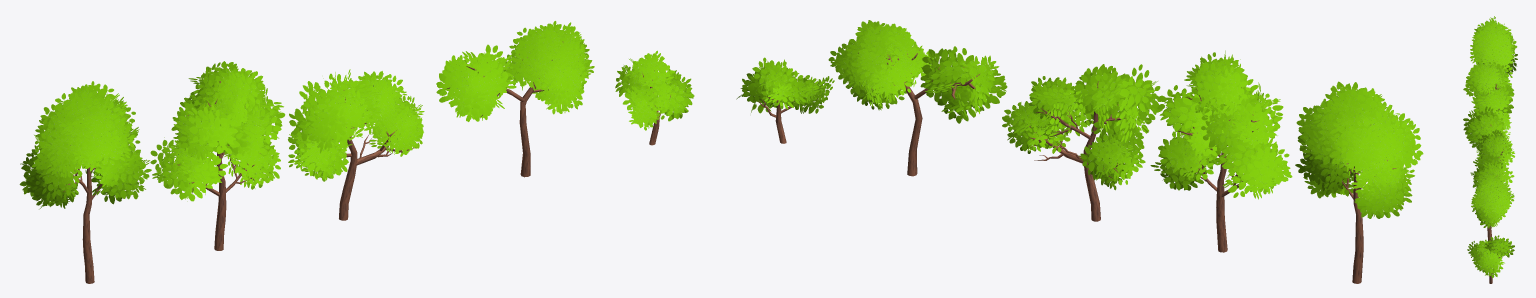
Rendered from trees_free_model_lo.glb.
The picture shows the model from 3 angles, left to right: view 1: azimuth 30°, elevation 25°; view 2: azimuth 150°, elevation 25°; view 3: azimuth 270°, elevation 25°; orthographic projection. The views are drawn at different scales.
Visible parts, largest first — view 1: NormalTree_2, NormalTree_1, NormalTree_3, NormalTree_4, NormalTree_5; view 2: NormalTree_2, NormalTree_1, NormalTree_3, NormalTree_4, NormalTree_5; view 3: NormalTree_4, NormalTree_2, NormalTree_3, NormalTree_1, NormalTree_5.
Part boxes in pixels (box(x1,y1,x2,y2)): NormalTree_2: box(150, 61, 285, 250); NormalTree_1: box(19, 81, 151, 283); NormalTree_3: box(288, 69, 424, 220); NormalTree_4: box(436, 21, 594, 177); NormalTree_5: box(615, 50, 694, 145); NormalTree_2: box(1150, 50, 1292, 252); NormalTree_1: box(1295, 81, 1423, 283); NormalTree_3: box(1002, 64, 1163, 221); NormalTree_4: box(828, 20, 1007, 176); NormalTree_5: box(736, 57, 834, 143); NormalTree_4: box(1470, 154, 1514, 240); NormalTree_2: box(1463, 62, 1514, 138); NormalTree_3: box(1463, 106, 1514, 176); NormalTree_1: box(1468, 16, 1517, 79); NormalTree_5: box(1467, 235, 1514, 283).
Size of the model in its own units: 25.24 by 7.23 by 3.74.
Materials: 2 (2 with a texture image).
